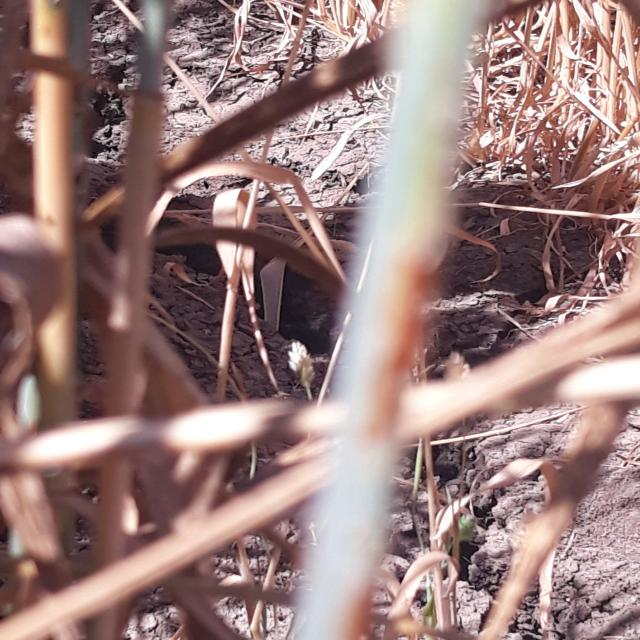black_stem_rust: (230, 0, 504, 640), (0, 0, 205, 608)
